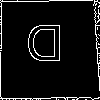D: (24, 24, 65, 72)
